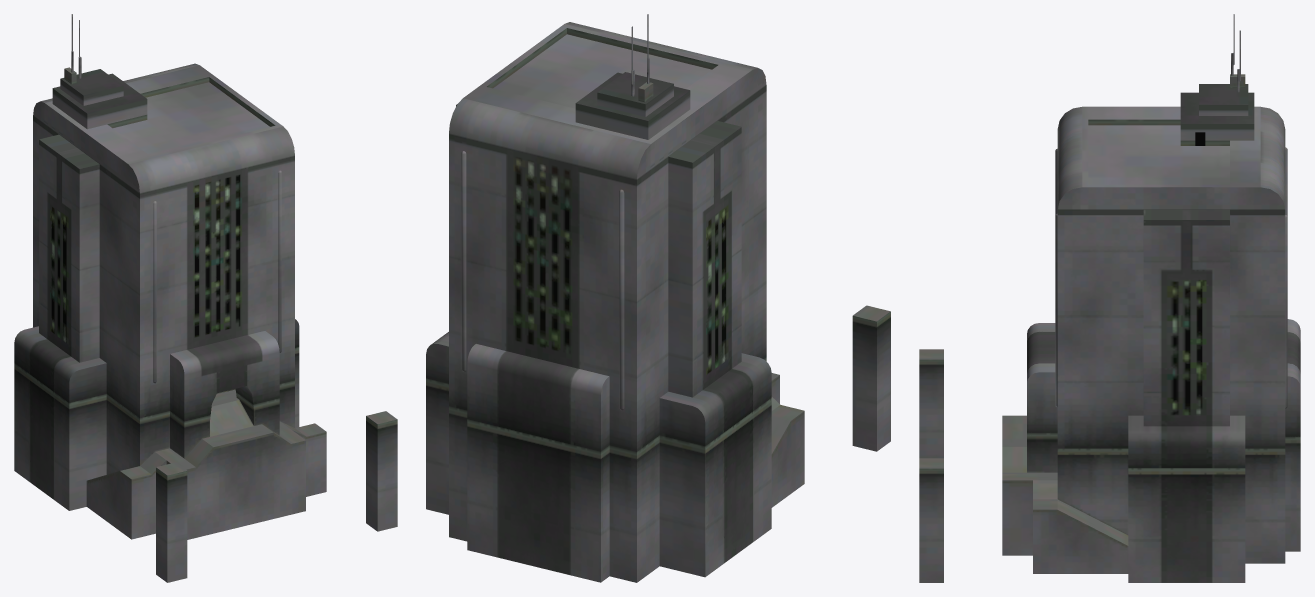
The model's file is ply_corl_capitol_s01_r0_mesh_l2.fbx.
The picture shows the model from 3 angles, left to right: view 1: azimuth 30°, elevation 25°; view 2: azimuth 150°, elevation 25°; view 3: azimuth 270°, elevation 25°; orthographic projection. The views are drawn at different scales.
Visible parts, largest first — view 1: mesh_node; view 2: mesh_node; view 3: mesh_node.
Part boxes in pixels (x1,y1,x2,y2): mesh_node: (14, 14, 397, 582); mesh_node: (426, 14, 890, 582); mesh_node: (919, 14, 1300, 582).
Size of the model in its own units: 46 by 85.5 by 62.01.
